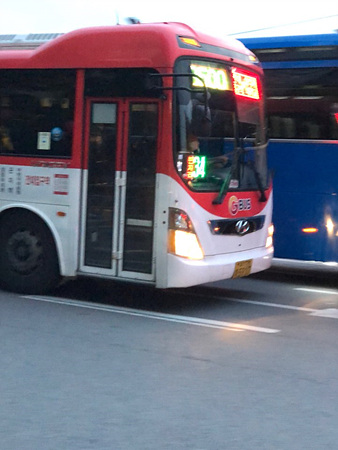entrance: (79, 92, 157, 291)
